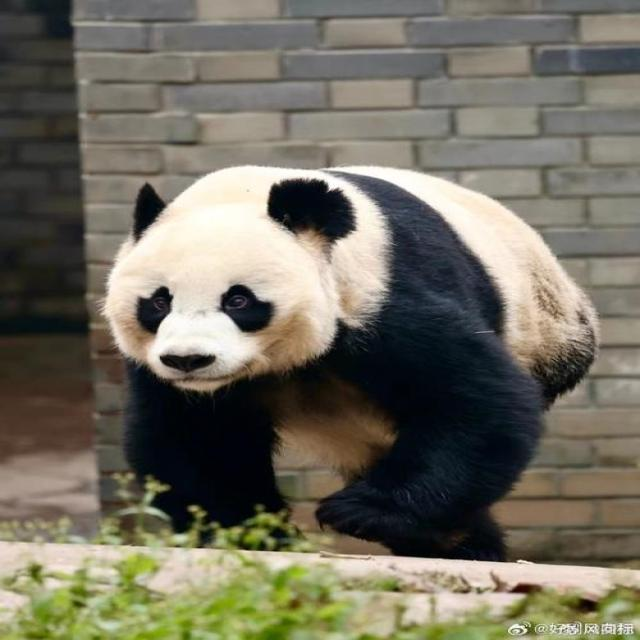panda: (50, 115, 636, 566)
